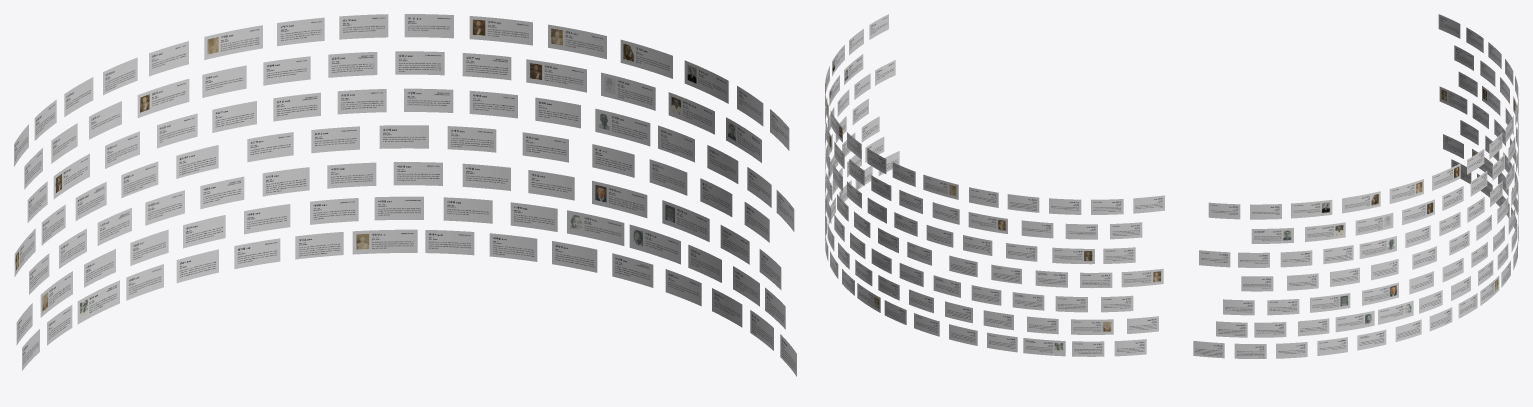
File: stairs.glb
3 views of the same model, side by side, from view 1: azimuth 30°, elevation 25°; view 2: azimuth 150°, elevation 25°; view 3: azimuth 270°, elevation 25° (orthographic). The views are drawn at different scales.
Bounding box in the file's own units: 2.94 × 1.76 × 2.13.
Materials: 9 (7 with a texture image).
